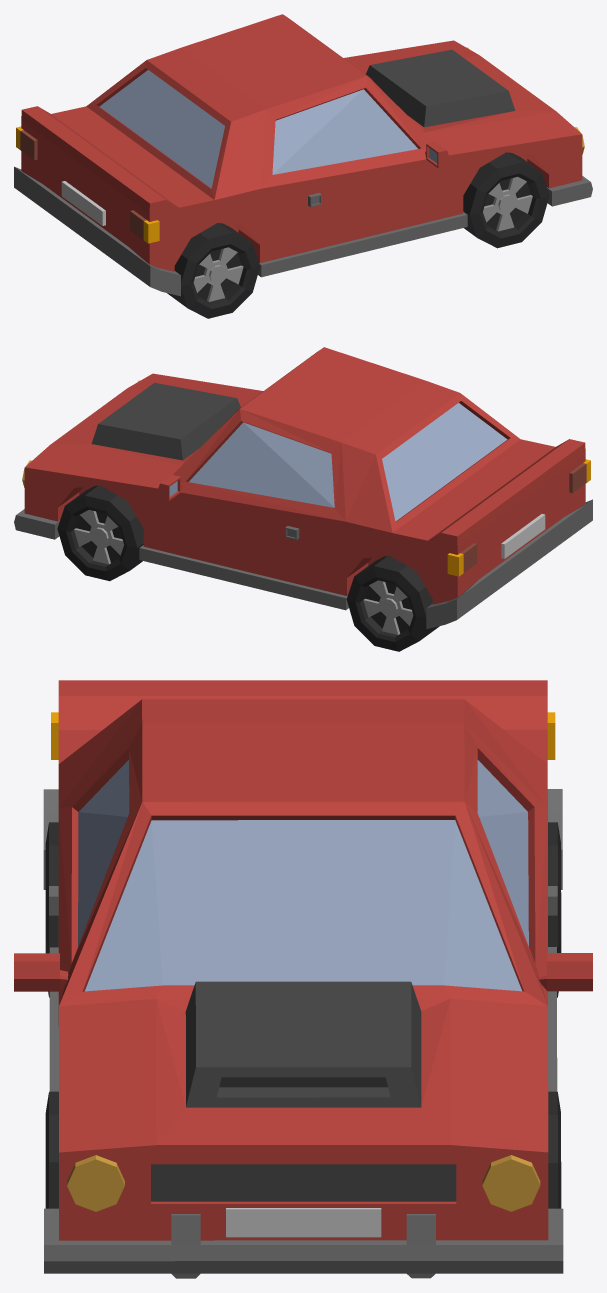
Rendered from Car_01.fbx.
The picture shows the model from 3 angles, top to bottom: view 1: azimuth 30°, elevation 25°; view 2: azimuth 150°, elevation 25°; view 3: azimuth 270°, elevation 25°; orthographic projection. The views are drawn at different scales.
Parts seen in each view (by area): view 1: Car_01; view 2: Car_01; view 3: Car_01.
Boxes of the visible parts, x1=… form: Car_01: x1=14, y1=14, x2=592, y2=318; Car_01: x1=14, y1=347, x2=592, y2=651; Car_01: x1=14, y1=680, x2=592, y2=1278.
Bounding box in the file's own units: 20.78 × 8.08 × 12.32.
